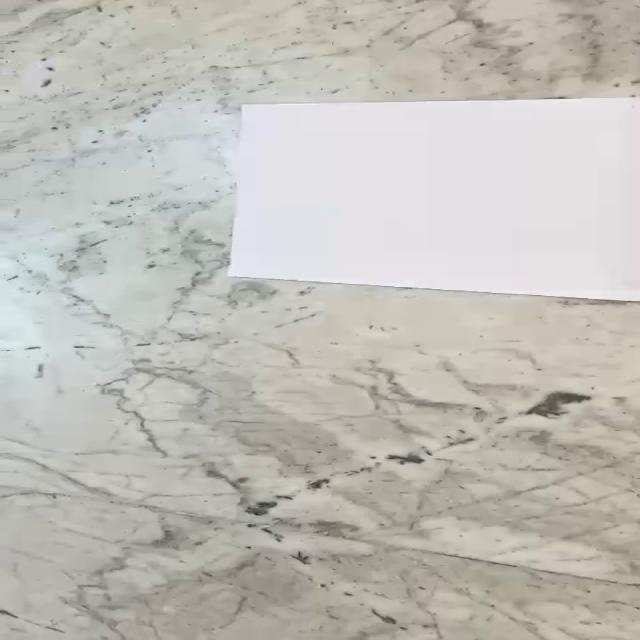road: (228, 97, 640, 303)
